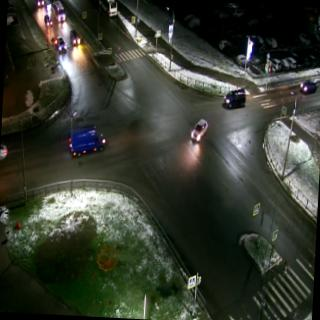large-vehicle: (66, 123, 110, 157), (95, 0, 121, 22), (51, 0, 67, 24)
small-vehicle: (222, 84, 248, 110), (190, 115, 208, 144), (298, 75, 318, 95), (52, 34, 68, 57), (66, 29, 84, 48), (43, 14, 53, 28), (33, 0, 45, 9)
